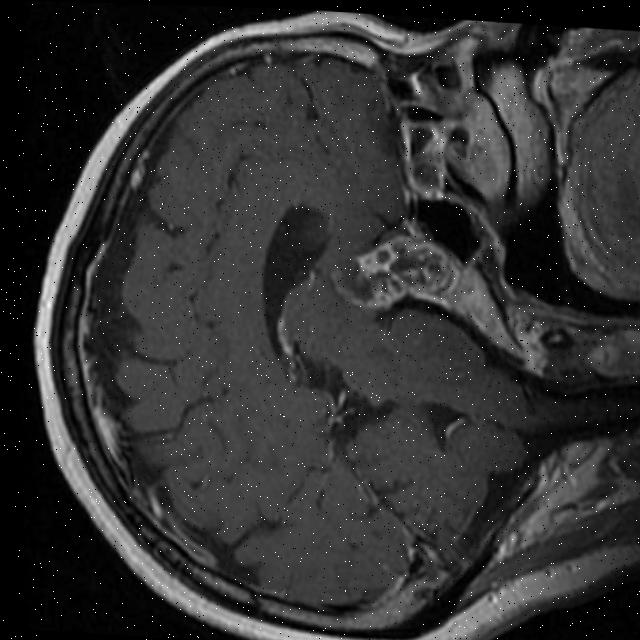Pituitary: (328, 229, 469, 318)
